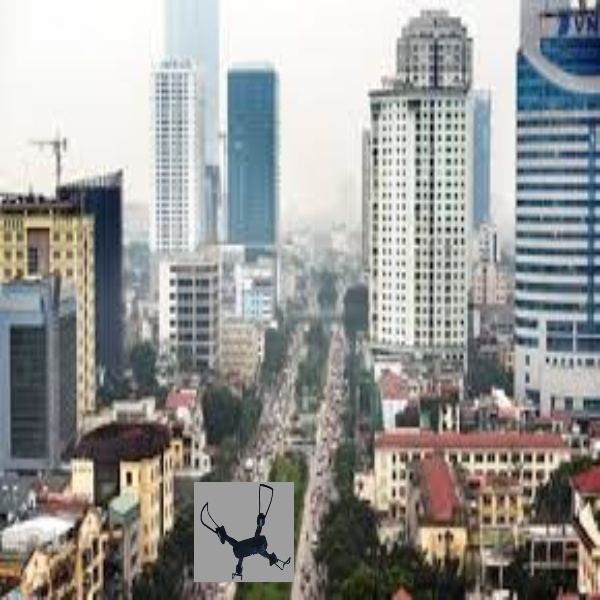drone: (199, 485, 295, 585)
